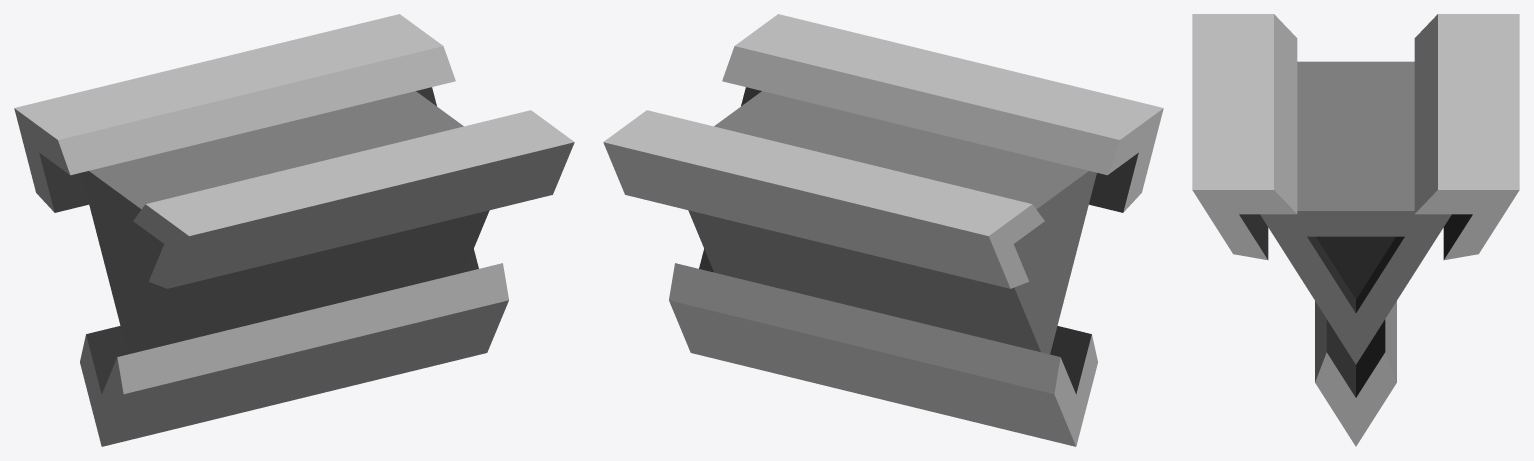
Rendered from Emitter.glb.
3 views of the same model, side by side, from view 1: azimuth 30°, elevation 25°; view 2: azimuth 150°, elevation 25°; view 3: azimuth 270°, elevation 25° (orthographic). The views are drawn at different scales.
Visible parts, largest first — view 1: Emitter_col; view 2: Emitter_col; view 3: Emitter_col.
Part boxes in pixels (x1,y1,x2,y2): Emitter_col: (14, 14, 574, 446); Emitter_col: (603, 14, 1163, 446); Emitter_col: (1192, 14, 1519, 446).
Size of the model in its own units: 1.59 by 1.08 by 1.25.
1 material, 1 textured.
